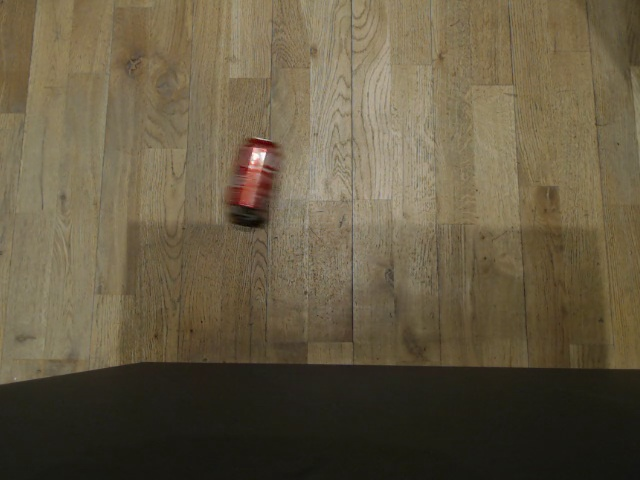coke: (225, 136, 281, 224)
